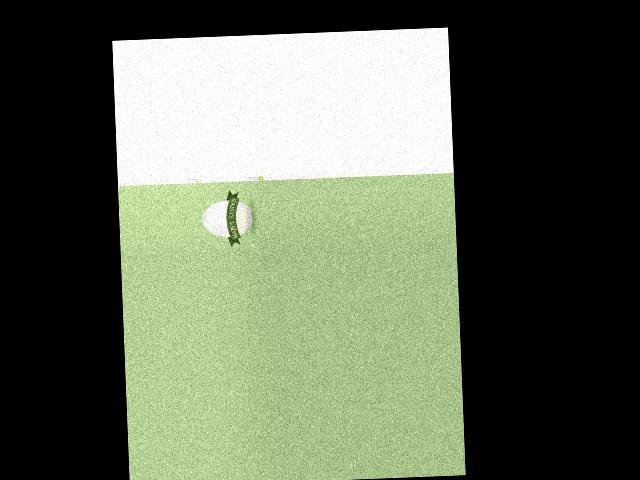egg: (201, 199, 253, 237)
